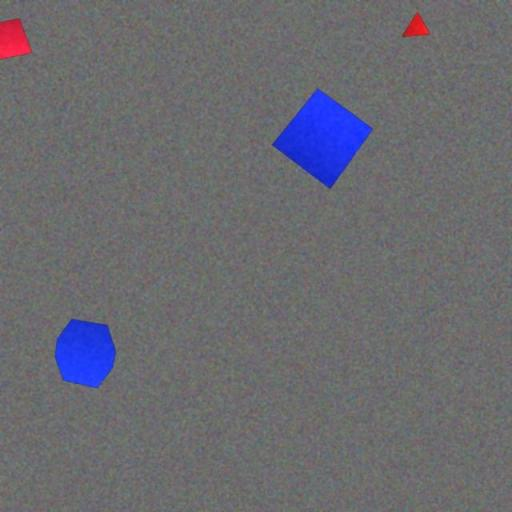BLUE_SQUARE: (271, 88, 374, 190)
RED_SQUARE: (0, 18, 33, 60)
